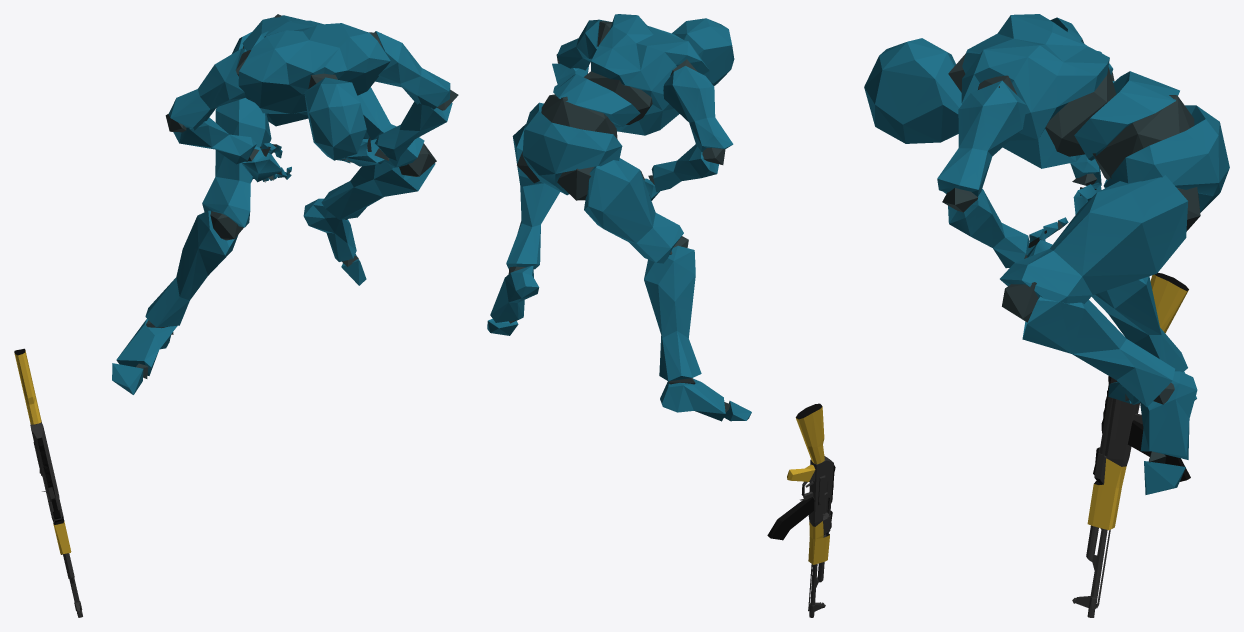
The model's file is EnemyDying_000076.obj.
3 renders of one model, left to right at view 1: azimuth 30°, elevation 25°; view 2: azimuth 150°, elevation 25°; view 3: azimuth 270°, elevation 25°, orthographic. The views are drawn at different scales.
Visible parts, largest first — view 1: Alpha_Surface, AK-47_Cube, Alpha_Joints; view 2: Alpha_Surface, AK-47_Cube, Alpha_Joints; view 3: Alpha_Surface, Alpha_Joints, AK-47_Cube.
Part boxes in pixels (x1,y1,x2,y2): Alpha_Surface: [112, 15, 452, 394]; AK-47_Cube: [14, 348, 82, 617]; Alpha_Joints: [136, 14, 458, 378]; Alpha_Surface: [487, 14, 751, 421]; AK-47_Cube: [767, 403, 835, 617]; Alpha_Joints: [508, 20, 730, 412]; Alpha_Surface: [864, 14, 1229, 494]; Alpha_Joints: [942, 53, 1200, 463]; AK-47_Cube: [1072, 273, 1190, 617].
Size of the model in its own units: 248 by 359 by 168.
